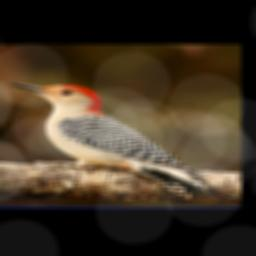Woodpecker: (10, 83, 236, 203)
